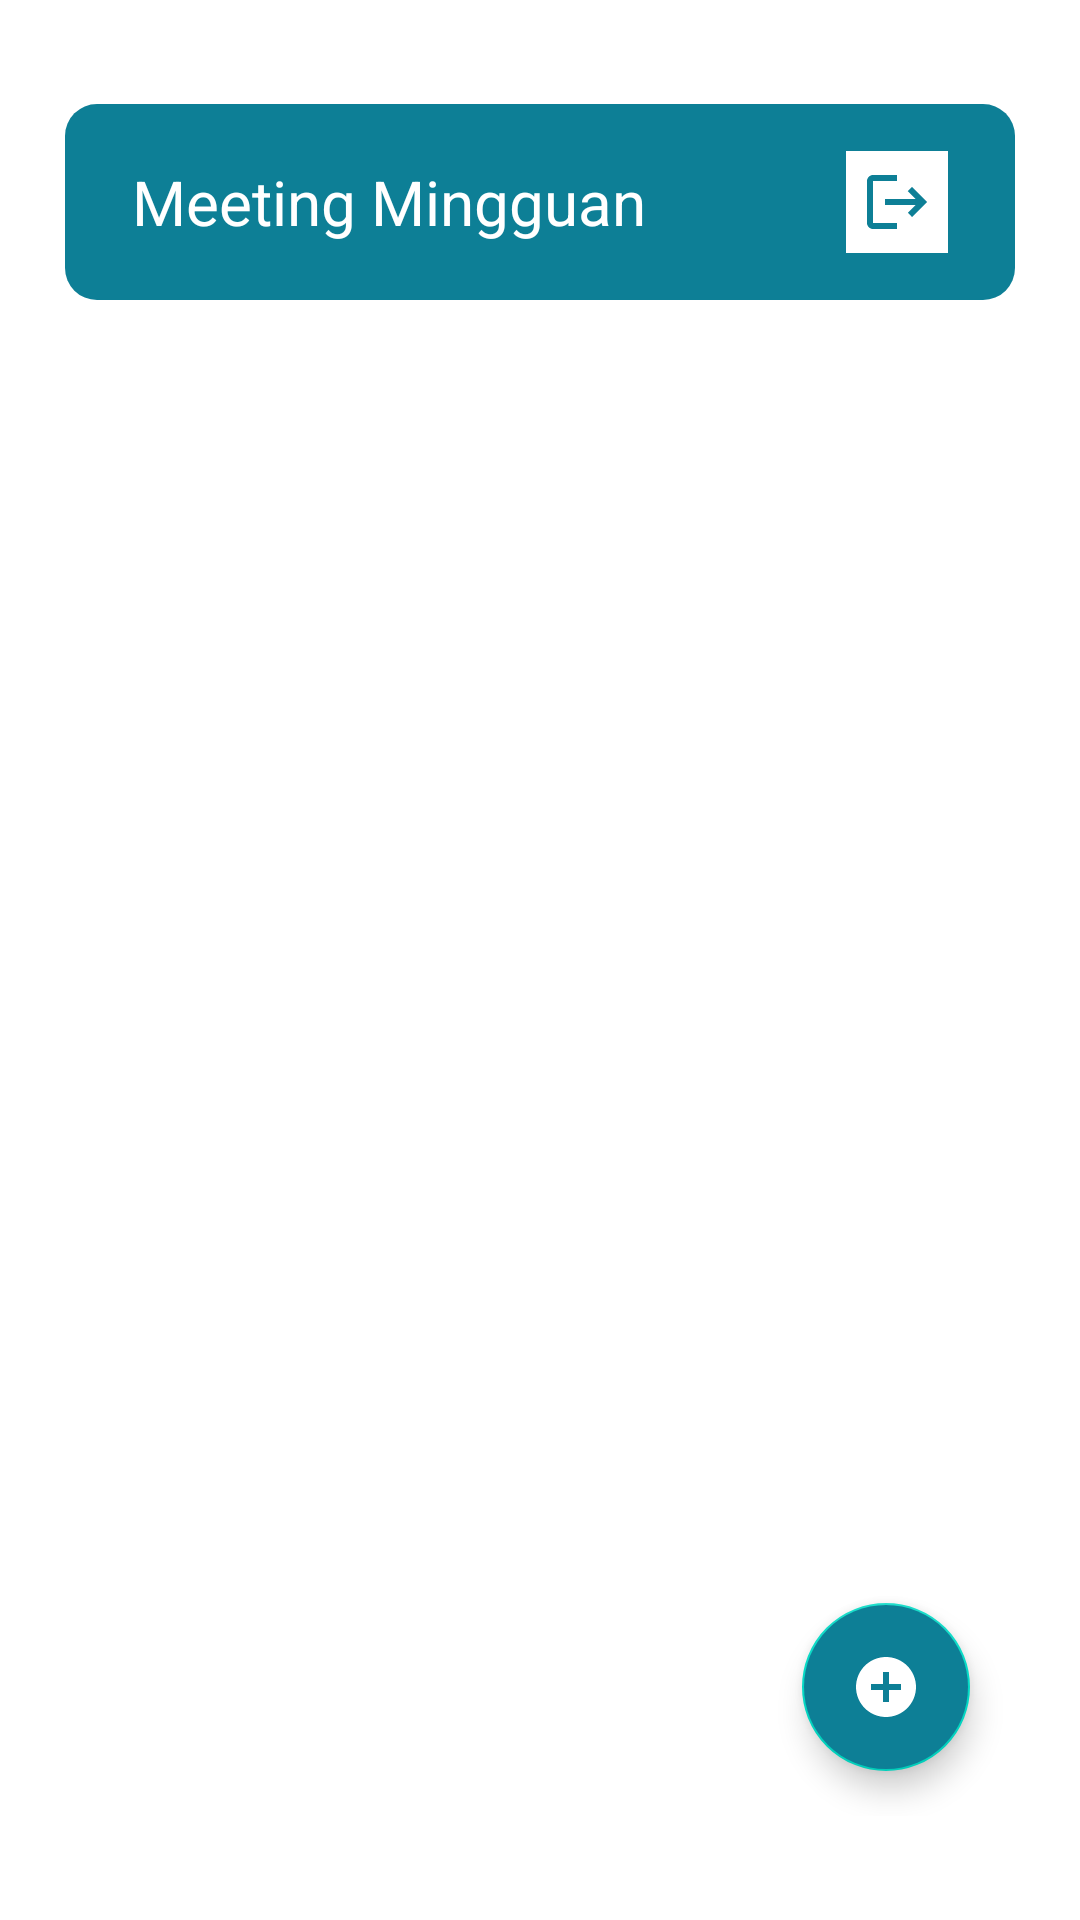

Locate icon controls on the screen. Image size 1080w x 1920h, boxes as [x1=x1, y1=y1, x2=x2, y2=y2].
add circle: [x1=802, y1=1603, x2=970, y2=1771]
